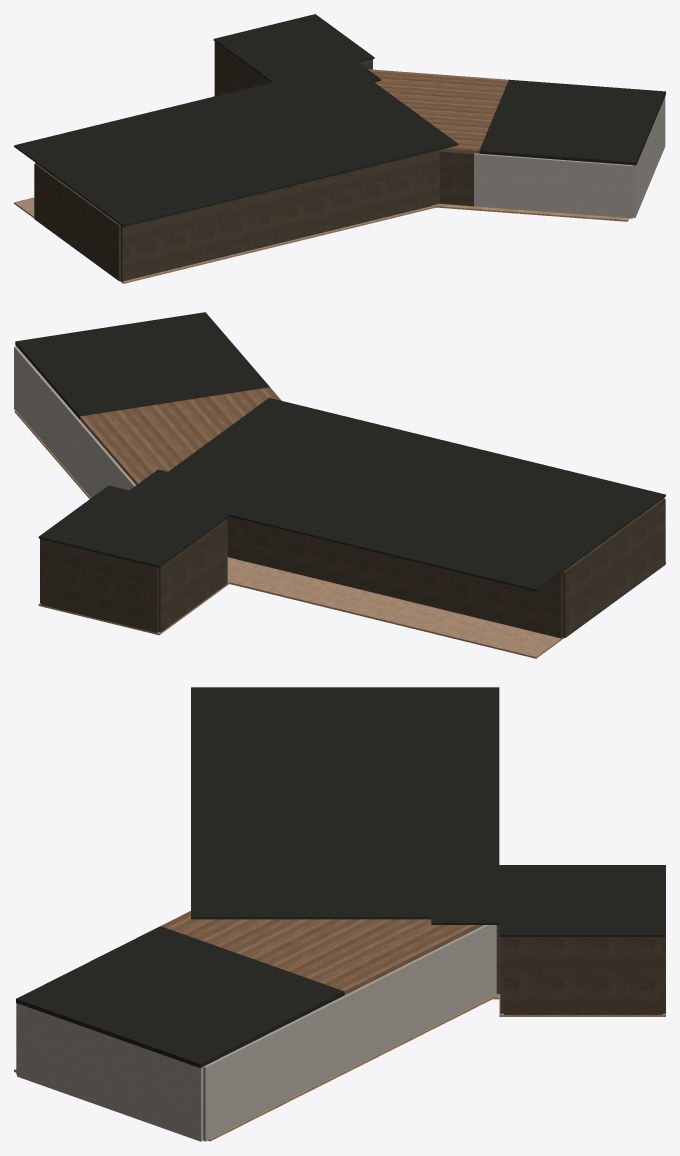
The model's file is gallery.glb.
3 views of the same model, one above another, from view 1: azimuth 30°, elevation 25°; view 2: azimuth 150°, elevation 25°; view 3: azimuth 270°, elevation 25° (orthographic). The views are drawn at different scales.
Visible parts, largest first — view 1: walls_a, walls_b, room, floor_a, floor_b; view 2: walls_a, walls_b, room, floor_a; view 3: walls_b, walls_a, room, floor_b.
Boxes of the visible parts, left/top/right/bottom form: walls_a: left=14, top=61, right=458, bottom=281; walls_b: left=368, top=69, right=665, bottom=218; room: left=213, top=14, right=374, bottom=96; floor_a: left=14, top=197, right=435, bottom=283; floor_b: left=431, top=203, right=628, bottom=221; walls_a: left=130, top=398, right=665, bottom=638; walls_b: left=14, top=312, right=281, bottom=497; room: left=38, top=485, right=229, bottom=635; floor_a: left=227, top=557, right=665, bottom=658; walls_b: left=16, top=911, right=496, bottom=1141; walls_a: left=191, top=687, right=500, bottom=994; room: left=499, top=865, right=665, bottom=1016; floor_b: left=14, top=994, right=497, bottom=1141.
Bounding box in the file's own units: 39.27 × 4 × 28.75.
53 materials, 37 textured.
